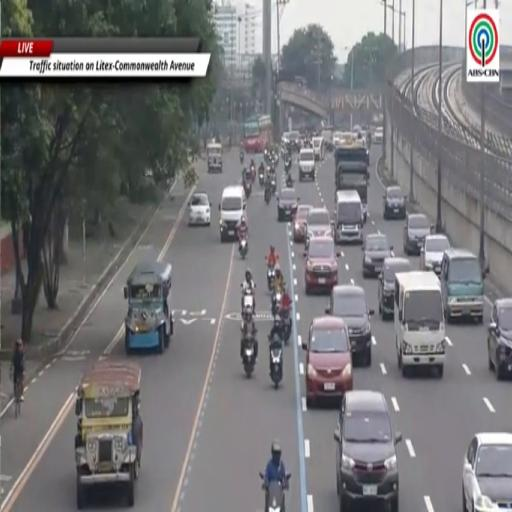car: (334, 390, 402, 511), (303, 316, 353, 407), (325, 284, 374, 366), (462, 432, 511, 511), (378, 256, 411, 321), (304, 236, 339, 294), (488, 298, 511, 379), (362, 234, 393, 278), (420, 234, 450, 275), (304, 207, 333, 248), (403, 214, 432, 255), (383, 186, 406, 219), (189, 192, 211, 226), (277, 188, 299, 221), (293, 205, 312, 242), (299, 148, 315, 181), (289, 132, 300, 152), (372, 127, 383, 145)
jeepney: (75, 361, 143, 509), (124, 262, 173, 355), (207, 142, 222, 172)
motorcycle: (259, 473, 291, 511), (269, 335, 282, 389), (279, 308, 292, 346), (243, 338, 255, 377), (242, 290, 254, 315), (271, 291, 282, 316), (267, 266, 275, 292), (239, 238, 248, 259), (264, 186, 272, 204), (244, 182, 251, 199), (284, 158, 292, 172), (271, 174, 276, 196), (286, 173, 293, 187), (259, 168, 264, 187), (271, 153, 278, 166), (250, 165, 255, 182), (240, 151, 244, 164)
truck: (334, 142, 369, 221), (242, 115, 273, 154)
